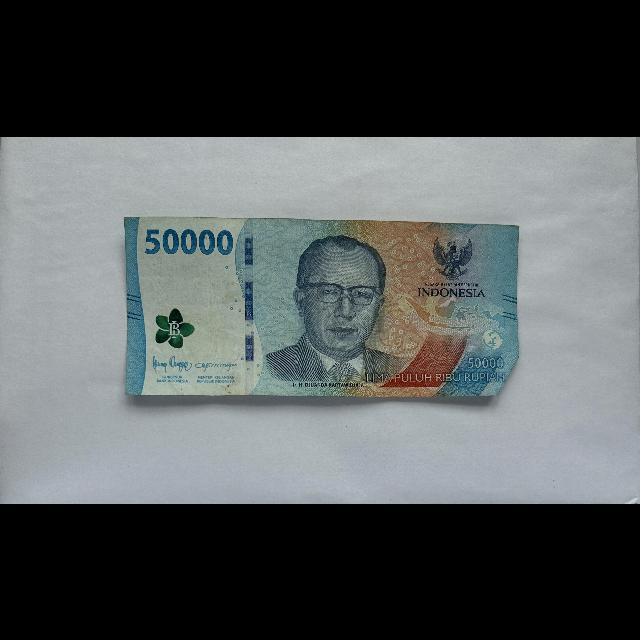Asli-50k: (123, 213, 522, 398)
Tinta-Asli-50k: (153, 305, 195, 349)
